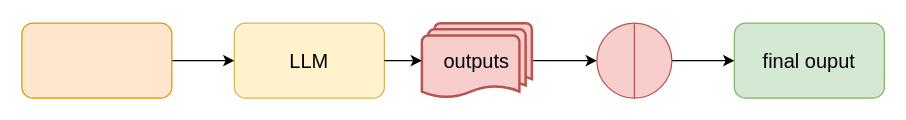
This 906x120 diagram has some shape labels left out. Here are the shapes that lost their labels. From the top down, the box of each, then its label:
(21, 22, 172, 98): prompt(s)
(596, 22, 672, 98): vote
